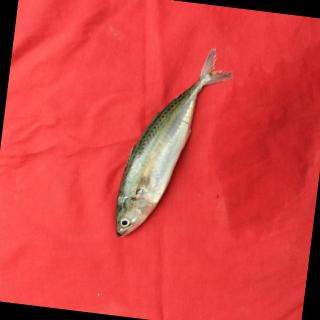Ikan: (94, 31, 241, 258)
